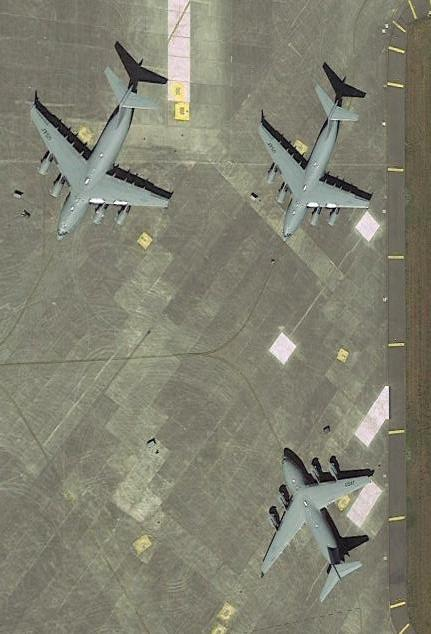C-17: (22, 71, 179, 249), (252, 450, 376, 606), (248, 90, 376, 237)
